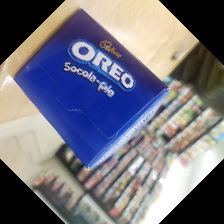Oreo: (13, 7, 170, 173)
